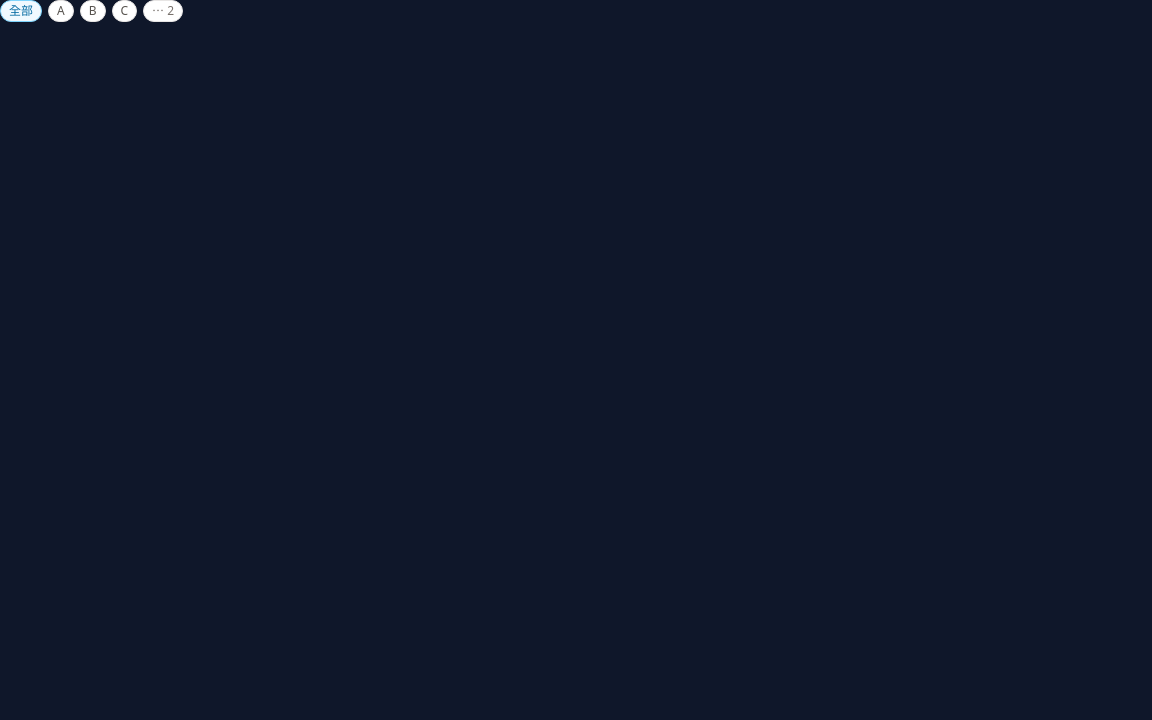
it: TagFilterRow — overflow behaviour › closes popover on ESC
Click the button with test id "tag-filter-overflow-trigger" at (163, 11), box x1=143 y1=0 x2=183 y2=22
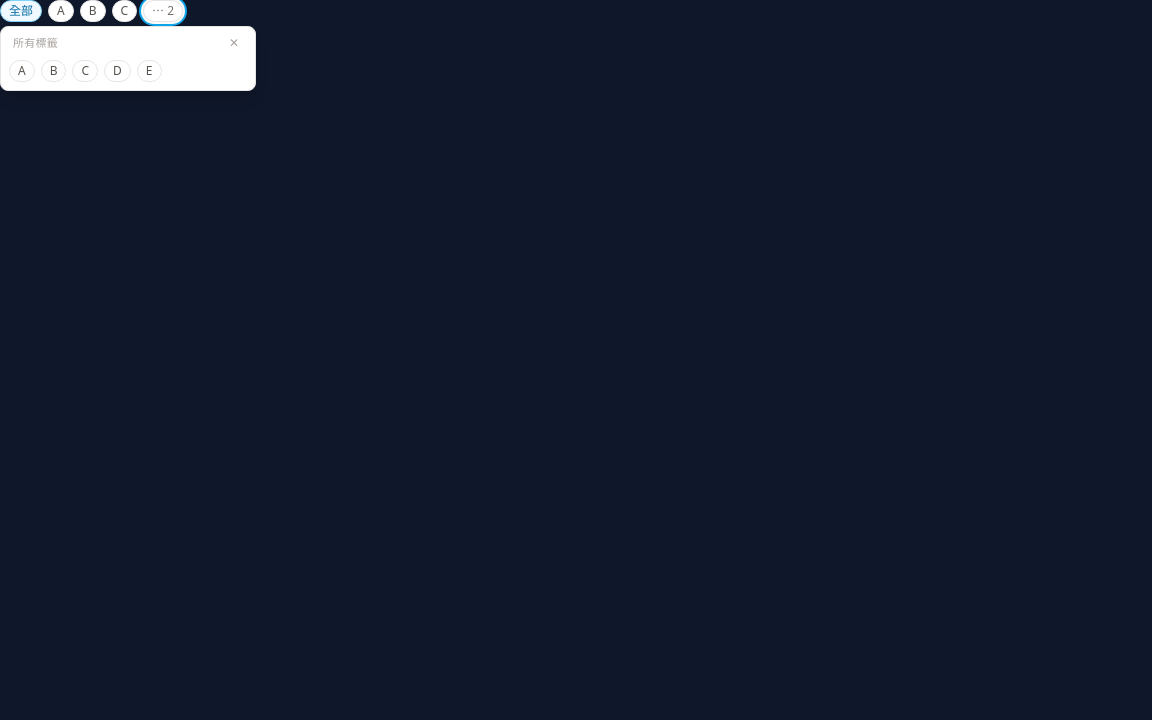
Result: the dialog with test id "tag-filter-overflow-popover" is shown at x1=0 y1=26 x2=256 y2=90
Press Escape
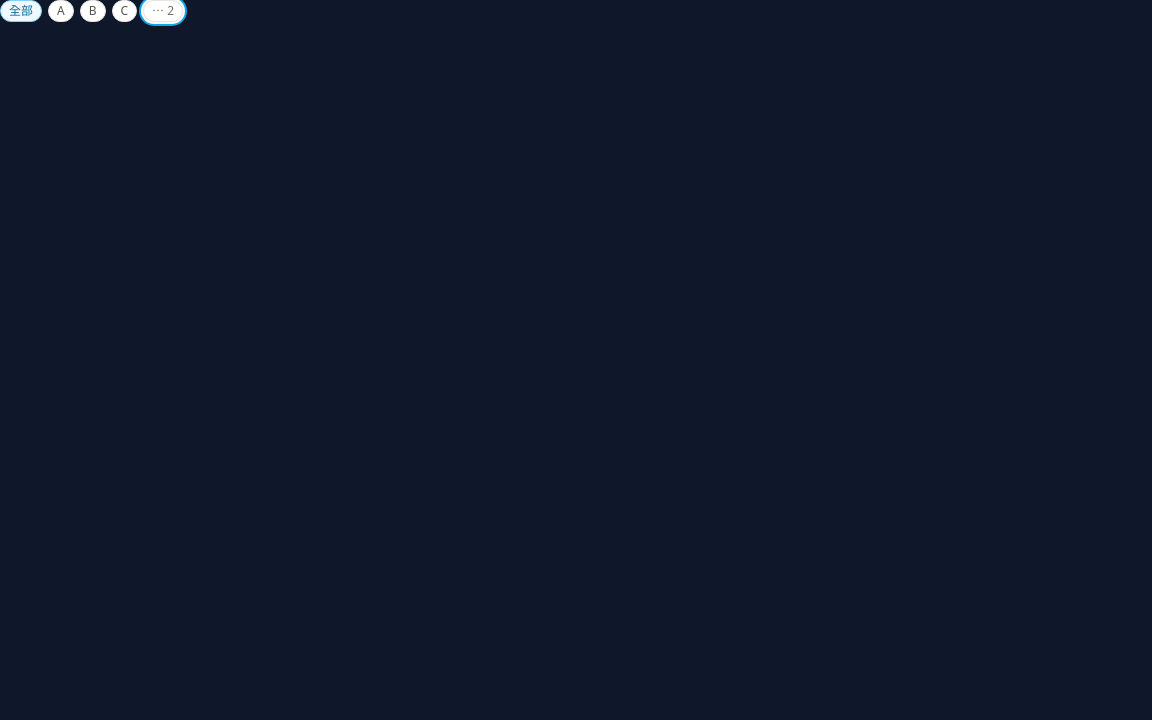
Result: the dialog with test id "tag-filter-overflow-popover" is gone
